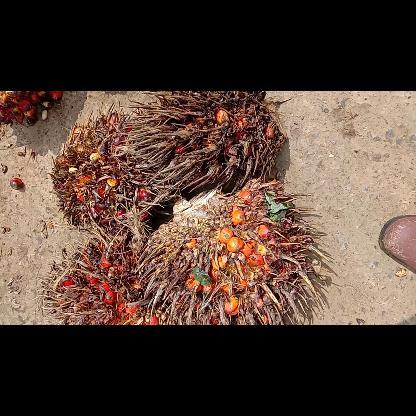Terlalu masak: (139, 176, 329, 324), (119, 91, 292, 197), (48, 106, 178, 234), (32, 226, 180, 324)
